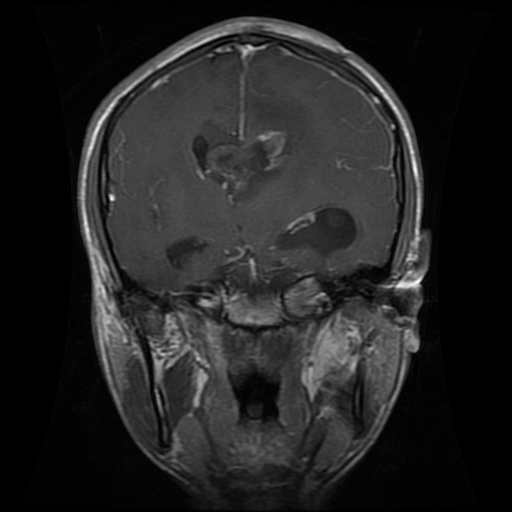glioma: (188, 102, 296, 200)
